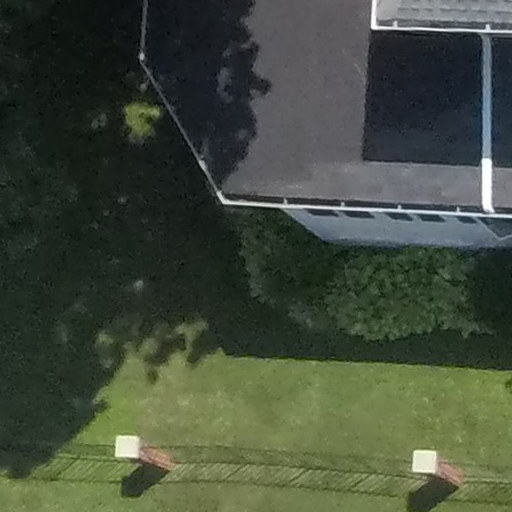fence: (6, 429, 512, 498)
